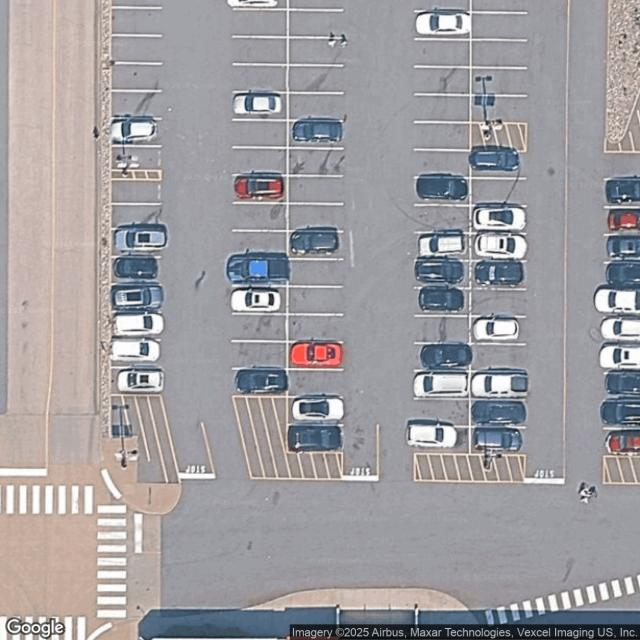car: (226, 255, 293, 283), (415, 173, 468, 203), (472, 372, 530, 398), (289, 426, 344, 452), (412, 259, 467, 285), (472, 400, 526, 426), (113, 228, 171, 252), (475, 234, 528, 260), (474, 426, 523, 454), (234, 370, 288, 395), (474, 260, 524, 286), (289, 342, 343, 366), (418, 286, 466, 313), (596, 286, 640, 315), (290, 232, 340, 257), (230, 290, 282, 314), (468, 148, 520, 172), (416, 13, 470, 36), (412, 376, 470, 397), (422, 343, 472, 367), (292, 398, 344, 421), (291, 121, 345, 143), (471, 317, 520, 341), (232, 177, 283, 200), (407, 425, 458, 448), (112, 255, 160, 279), (116, 370, 166, 393), (112, 287, 163, 309), (113, 313, 164, 335), (597, 344, 640, 370), (418, 234, 464, 258), (232, 93, 282, 115), (598, 400, 640, 426), (112, 341, 162, 362), (474, 208, 526, 228), (113, 120, 159, 141), (600, 317, 640, 341), (604, 372, 640, 398), (605, 429, 640, 455), (604, 179, 640, 202), (604, 237, 640, 260), (607, 208, 640, 233), (605, 264, 640, 286)
lot_boundary: (109, 0, 639, 486)
objects: (234, 396, 343, 480), (412, 454, 527, 482), (470, 123, 528, 151), (603, 456, 639, 484), (112, 170, 161, 181)
stall: (232, 63, 288, 93), (232, 175, 288, 205), (232, 146, 288, 176), (231, 92, 287, 122), (232, 9, 288, 39), (232, 37, 288, 67), (287, 64, 343, 94), (288, 36, 344, 66), (231, 287, 287, 317), (288, 286, 344, 316), (288, 258, 344, 288), (288, 230, 344, 260), (287, 203, 343, 233), (289, 120, 345, 150), (288, 92, 344, 122), (415, 66, 471, 96), (288, 423, 344, 453), (287, 396, 343, 426), (290, 369, 346, 399), (286, 314, 342, 344), (232, 259, 288, 288), (232, 231, 288, 260), (232, 202, 288, 231), (232, 119, 288, 148), (288, 9, 344, 38), (232, 369, 288, 398), (232, 341, 288, 370), (232, 314, 288, 343), (288, 175, 344, 204), (288, 147, 344, 176), (414, 94, 470, 123), (414, 38, 472, 66), (412, 372, 470, 400), (470, 179, 528, 207), (470, 206, 528, 234), (470, 372, 528, 400), (412, 426, 470, 454), (472, 66, 528, 95), (414, 122, 471, 150), (413, 150, 470, 178), (414, 232, 471, 260), (414, 177, 471, 205), (414, 12, 471, 40), (413, 399, 470, 427), (414, 344, 471, 372), (414, 315, 471, 343), (413, 288, 470, 316), (414, 260, 471, 288), (471, 150, 528, 178), (471, 234, 528, 262), (471, 261, 528, 289), (469, 316, 526, 344), (469, 344, 526, 372), (469, 400, 526, 428), (470, 426, 527, 454), (472, 12, 529, 40), (471, 39, 528, 67), (472, 94, 529, 122), (472, 288, 528, 316), (413, 207, 470, 234), (111, 7, 163, 35), (111, 312, 163, 340), (111, 36, 163, 64), (288, 344, 344, 370), (111, 367, 162, 395), (111, 286, 162, 314), (110, 257, 161, 285), (111, 230, 162, 258), (110, 118, 161, 146), (112, 90, 163, 118), (112, 62, 163, 90), (110, 341, 162, 368), (112, 204, 161, 230), (110, 145, 160, 170), (603, 208, 640, 236), (603, 261, 640, 289), (603, 288, 640, 316), (603, 314, 640, 342), (603, 343, 640, 371), (603, 372, 640, 400), (603, 400, 640, 428), (603, 428, 640, 456), (603, 235, 640, 263), (603, 152, 640, 180), (112, 183, 160, 204), (604, 179, 640, 207)
